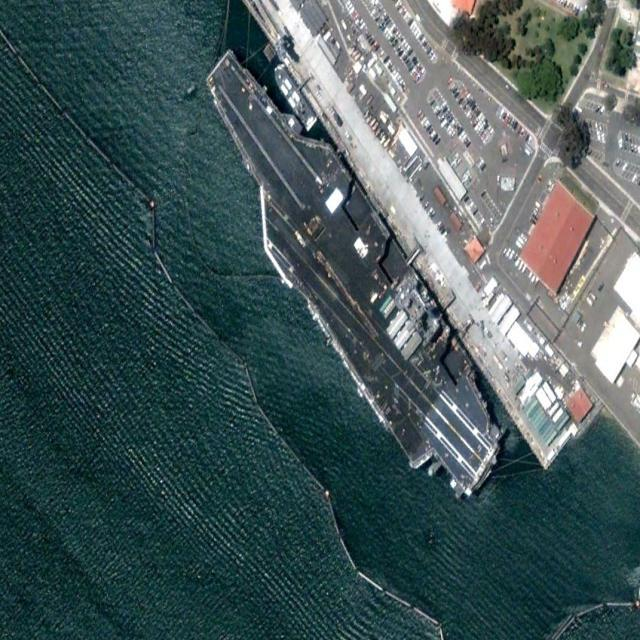Aircraft Carrier: (175, 18, 522, 529)
